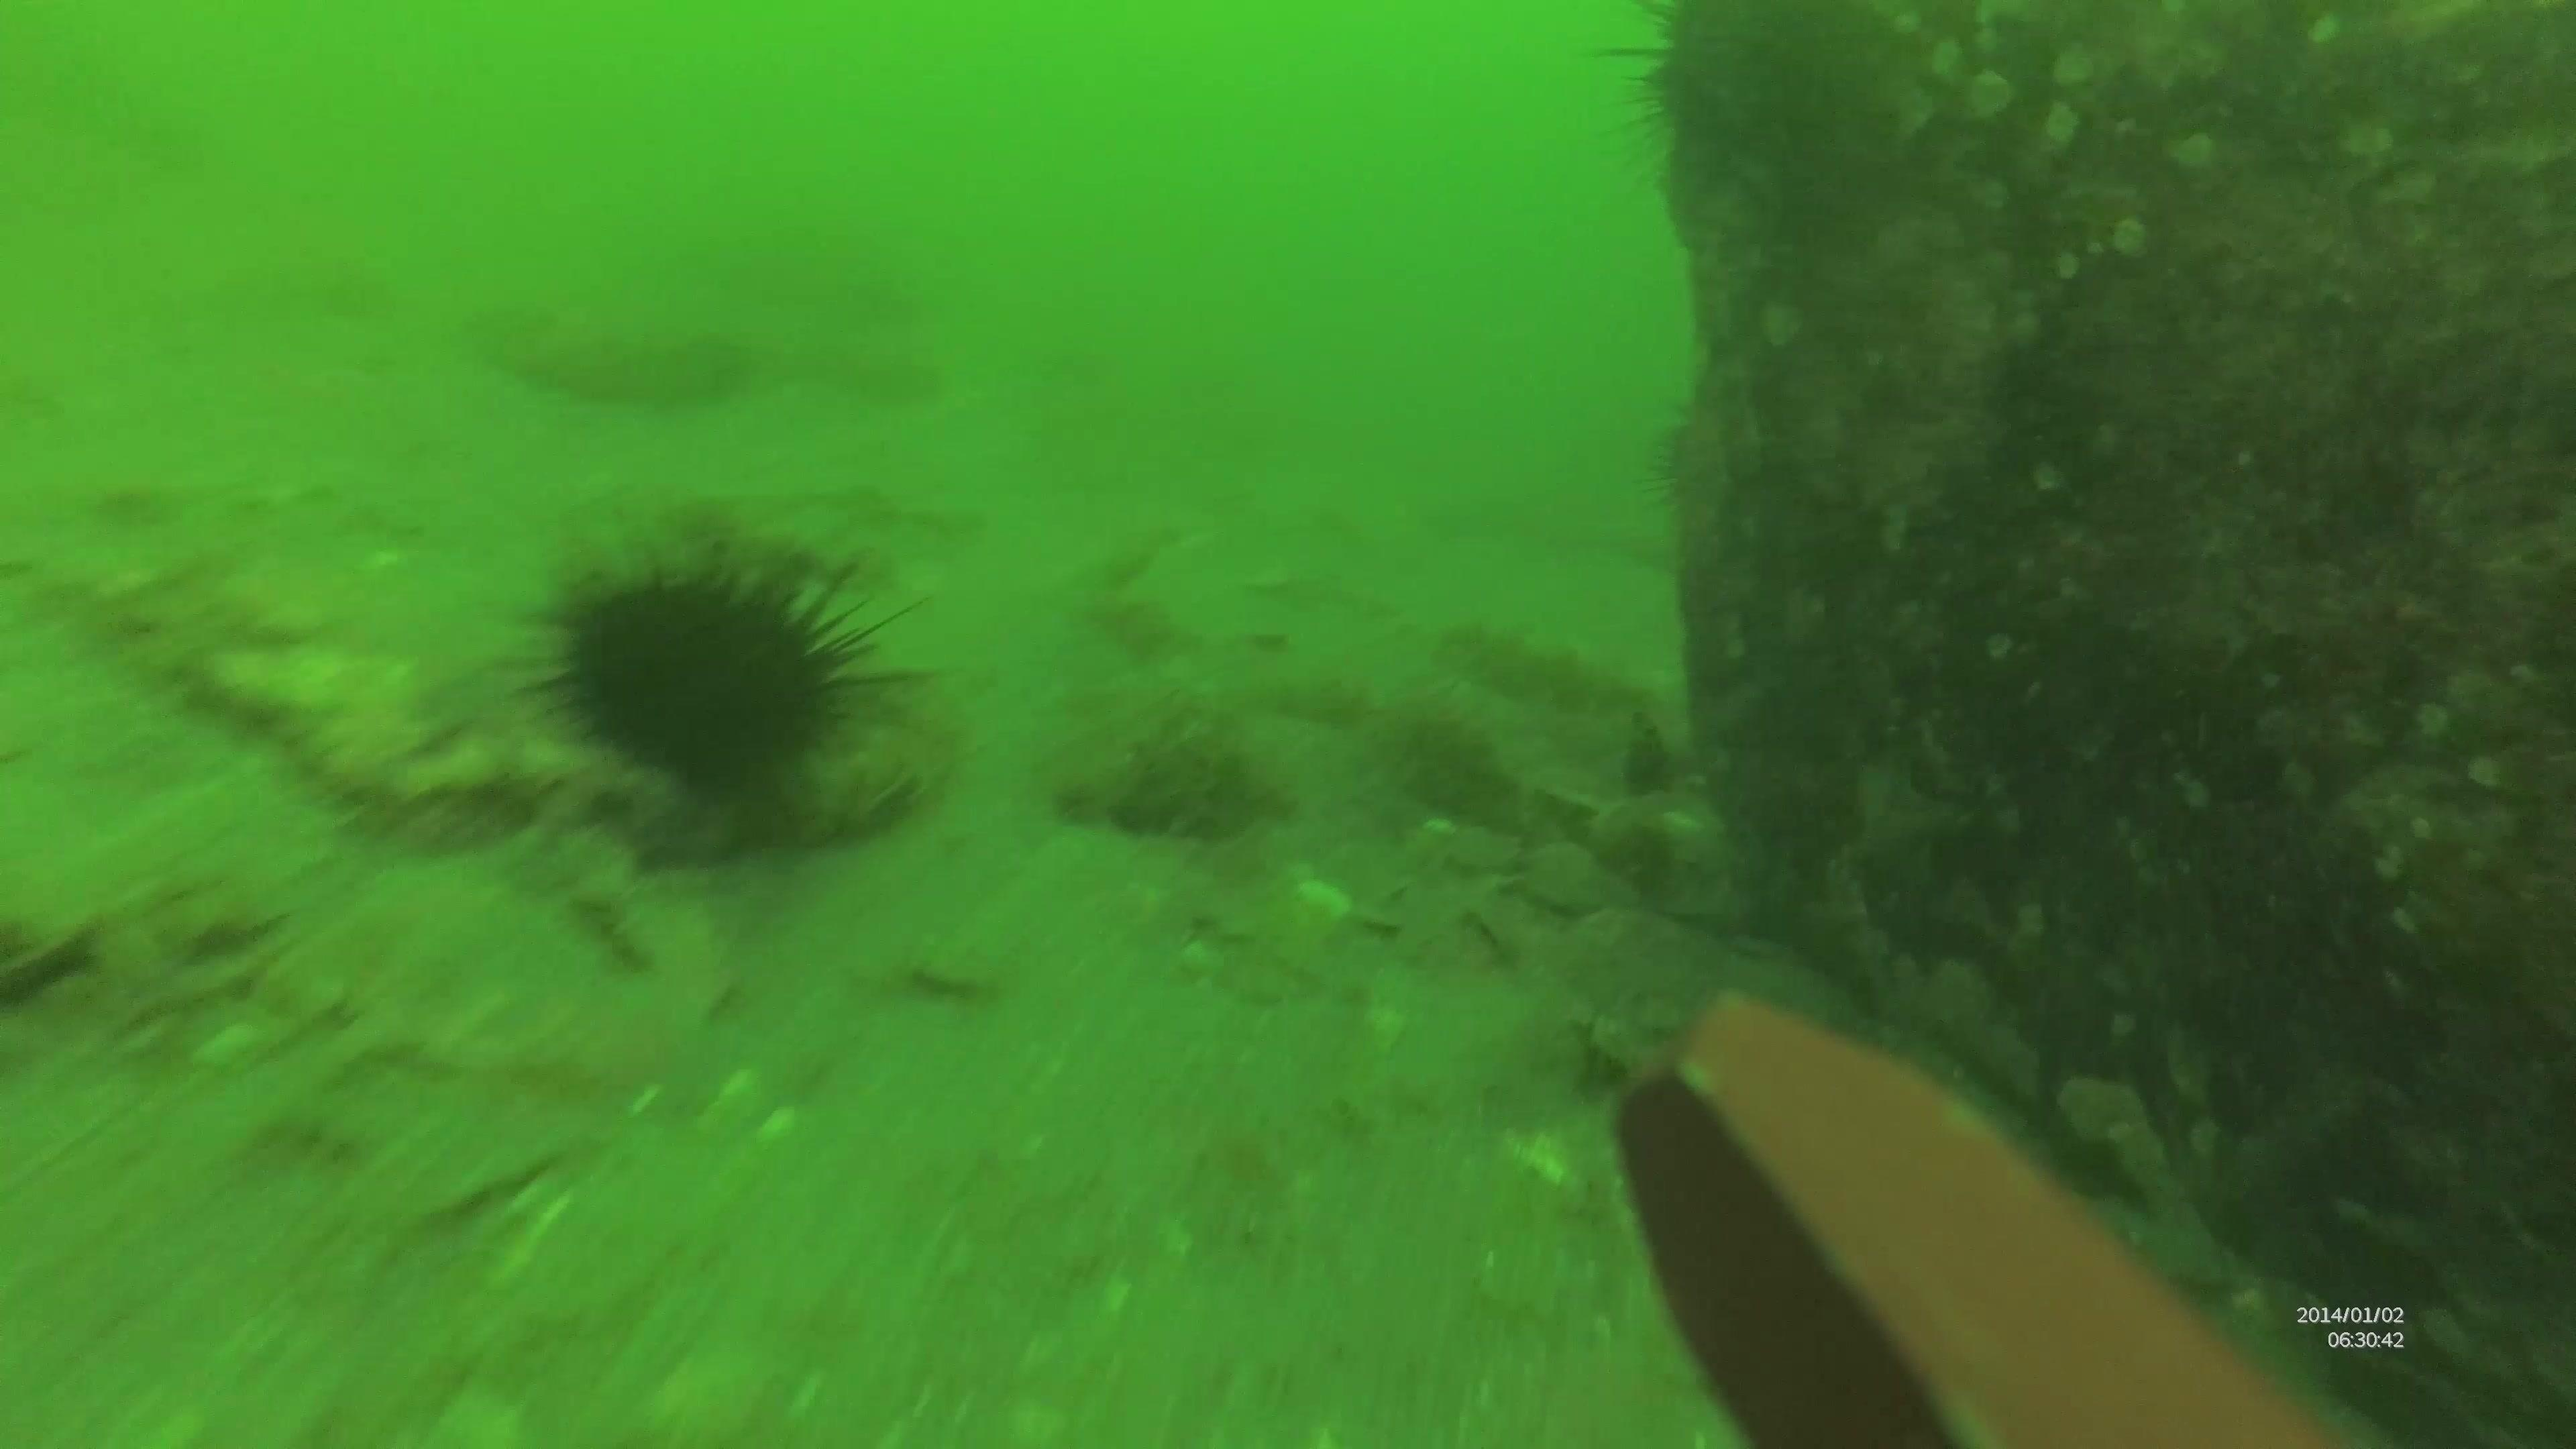echinus: (520, 518, 929, 824), (1610, 4, 1936, 216)
